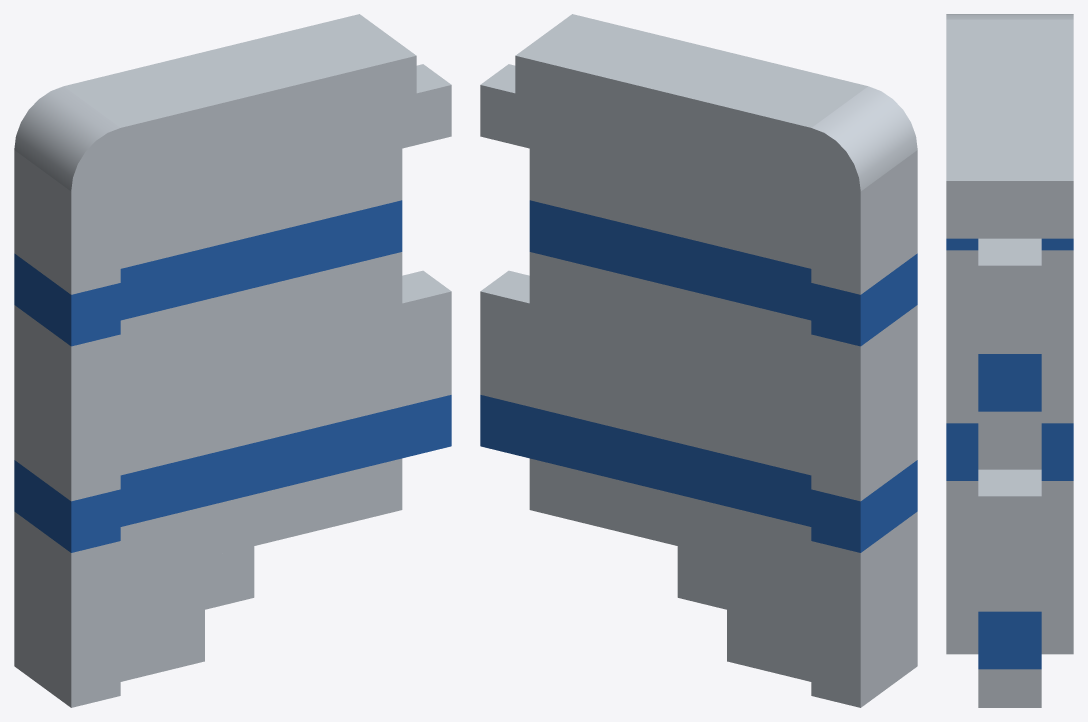
File: Broken Paper3.fbx
3 views of the same model, side by side, from view 1: azimuth 30°, elevation 25°; view 2: azimuth 150°, elevation 25°; view 3: azimuth 270°, elevation 25° (orthographic). The views are drawn at different scales.
Visible parts, largest first — view 1: generated; view 2: generated; view 3: generated.
Part boxes in pixels (x1,y1,x2,y2): generated: (14, 14, 451, 707); generated: (480, 14, 917, 707); generated: (946, 14, 1073, 707).
Size of the model in its own units: 80 by 110 by 20.
